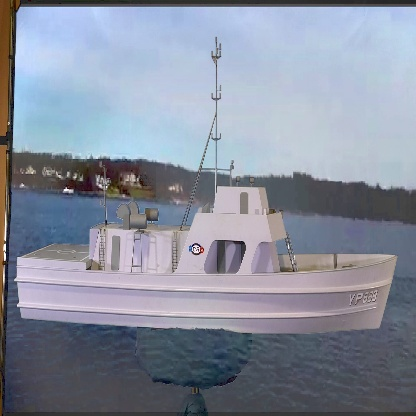YP689: (14, 33, 398, 335)
